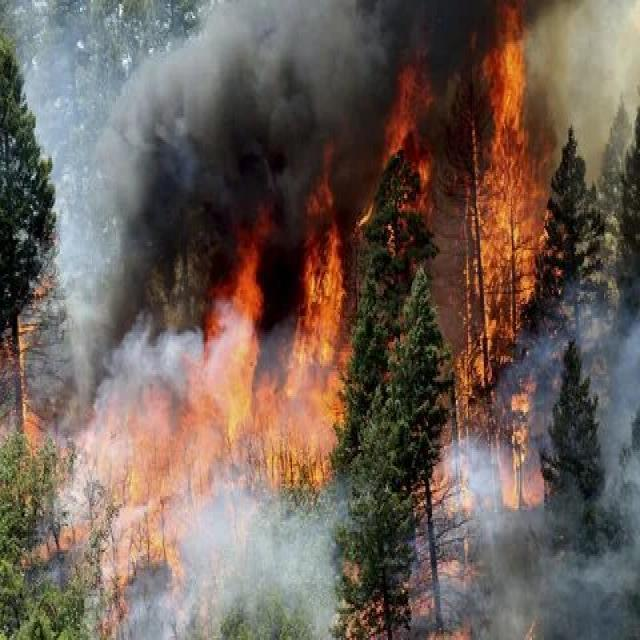Fire: (88, 219, 390, 540), (434, 13, 597, 520)
Smoke: (14, 0, 377, 196)
